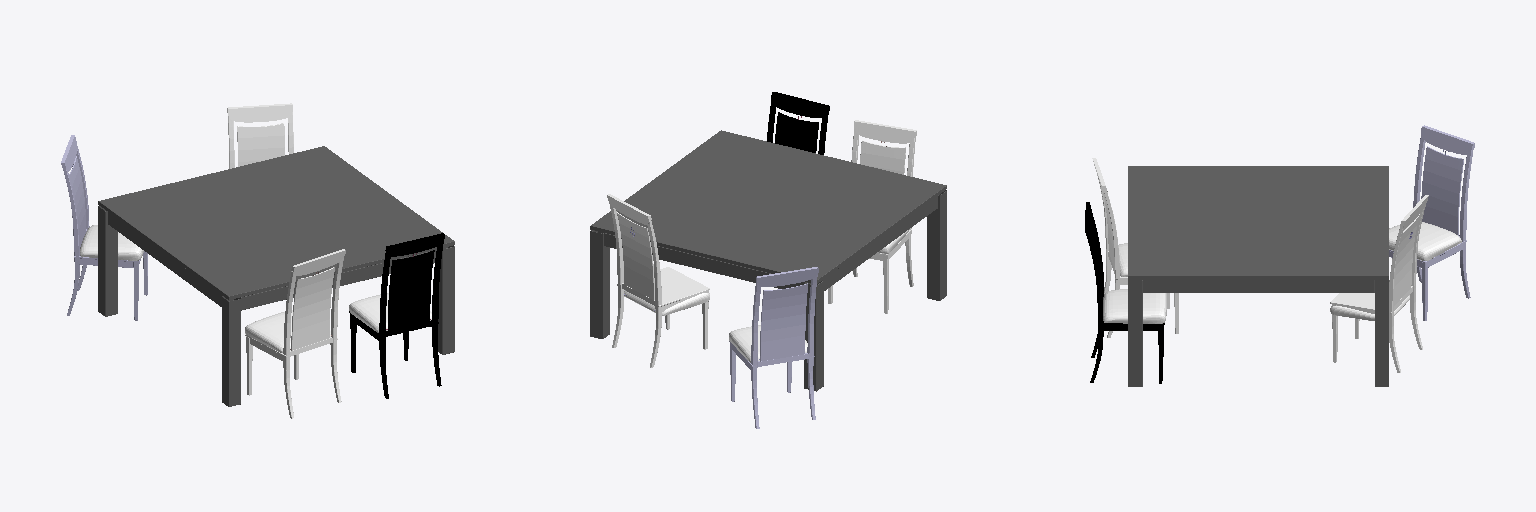
The model's file is table-and-chairs.obj.
3 views of the same model, side by side, from view 1: azimuth 30°, elevation 25°; view 2: azimuth 150°, elevation 25°; view 3: azimuth 270°, elevation 25° (orthographic).
Parts seen in each view (by area): view 1: 3DSMesh_6_6, 3DSMesh_9_7, 3DSMesh_15_11, 3DSMesh_27_19, 3DSMesh_30_21, 3DSMesh_17_12, 3DSMesh_32_22, 3DSMesh_11_8; view 2: 3DSMesh_6_6, 3DSMesh_30_21, 3DSMesh_27_19, 3DSMesh_15_11, 3DSMesh_9_7, 3DSMesh_32_22, 3DSMesh_29_20; view 3: 3DSMesh_6_6, 3DSMesh_30_21, 3DSMesh_27_19, 3DSMesh_9_7, 3DSMesh_15_11, 3DSMesh_11_8, 3DSMesh_32_22.
Boxes of the visible parts, <box> form: 3DSMesh_6_6: <box>98,146,454,406</box>; 3DSMesh_9_7: <box>349,233,444,398</box>; 3DSMesh_15_11: <box>245,249,345,418</box>; 3DSMesh_27_19: <box>227,103,293,168</box>; 3DSMesh_30_21: <box>61,135,147,320</box>; 3DSMesh_17_12: <box>245,310,330,352</box>; 3DSMesh_32_22: <box>80,225,143,260</box>; 3DSMesh_11_8: <box>349,293,431,332</box>; 3DSMesh_6_6: <box>590,130,946,391</box>; 3DSMesh_30_21: <box>729,267,818,428</box>; 3DSMesh_27_19: <box>607,194,709,367</box>; 3DSMesh_15_11: <box>828,120,916,313</box>; 3DSMesh_9_7: <box>767,92,829,154</box>; 3DSMesh_32_22: <box>729,325,807,362</box>; 3DSMesh_29_20: <box>624,290,709,315</box>; 3DSMesh_6_6: <box>1128,166,1388,386</box>; 3DSMesh_30_21: <box>1389,125,1474,320</box>; 3DSMesh_27_19: <box>1330,195,1428,372</box>; 3DSMesh_9_7: <box>1085,202,1164,383</box>; 3DSMesh_15_11: <box>1092,158,1178,337</box>; 3DSMesh_11_8: <box>1103,289,1166,323</box>; 3DSMesh_32_22: <box>1389,222,1461,260</box>.
Size of the model in its own units: 1.52 by 0.9799 by 2.09.